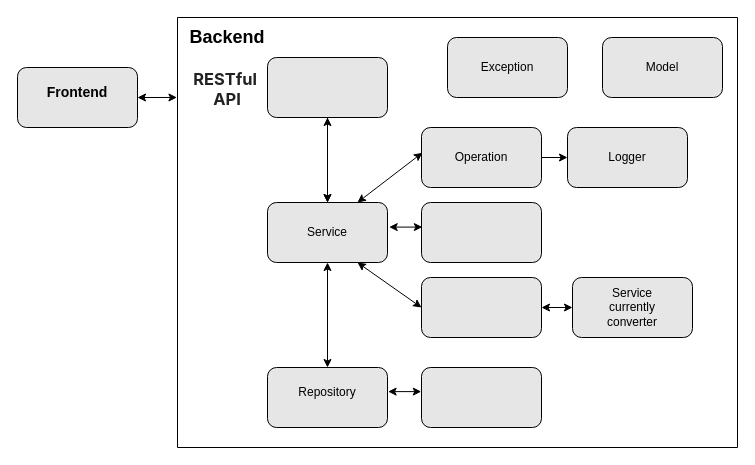
Some shapes in this 755 by 465 pixel diagram are drawn without their labels. The shapes that lost their labels are listed below. From the top down, each one's box as (x1, y1, x2, y2) in pixels, then its label:
(266, 56, 388, 118): Controller
(420, 202, 542, 262): Mapper
(420, 276, 542, 338): Converter
(420, 366, 542, 428): Card storage
